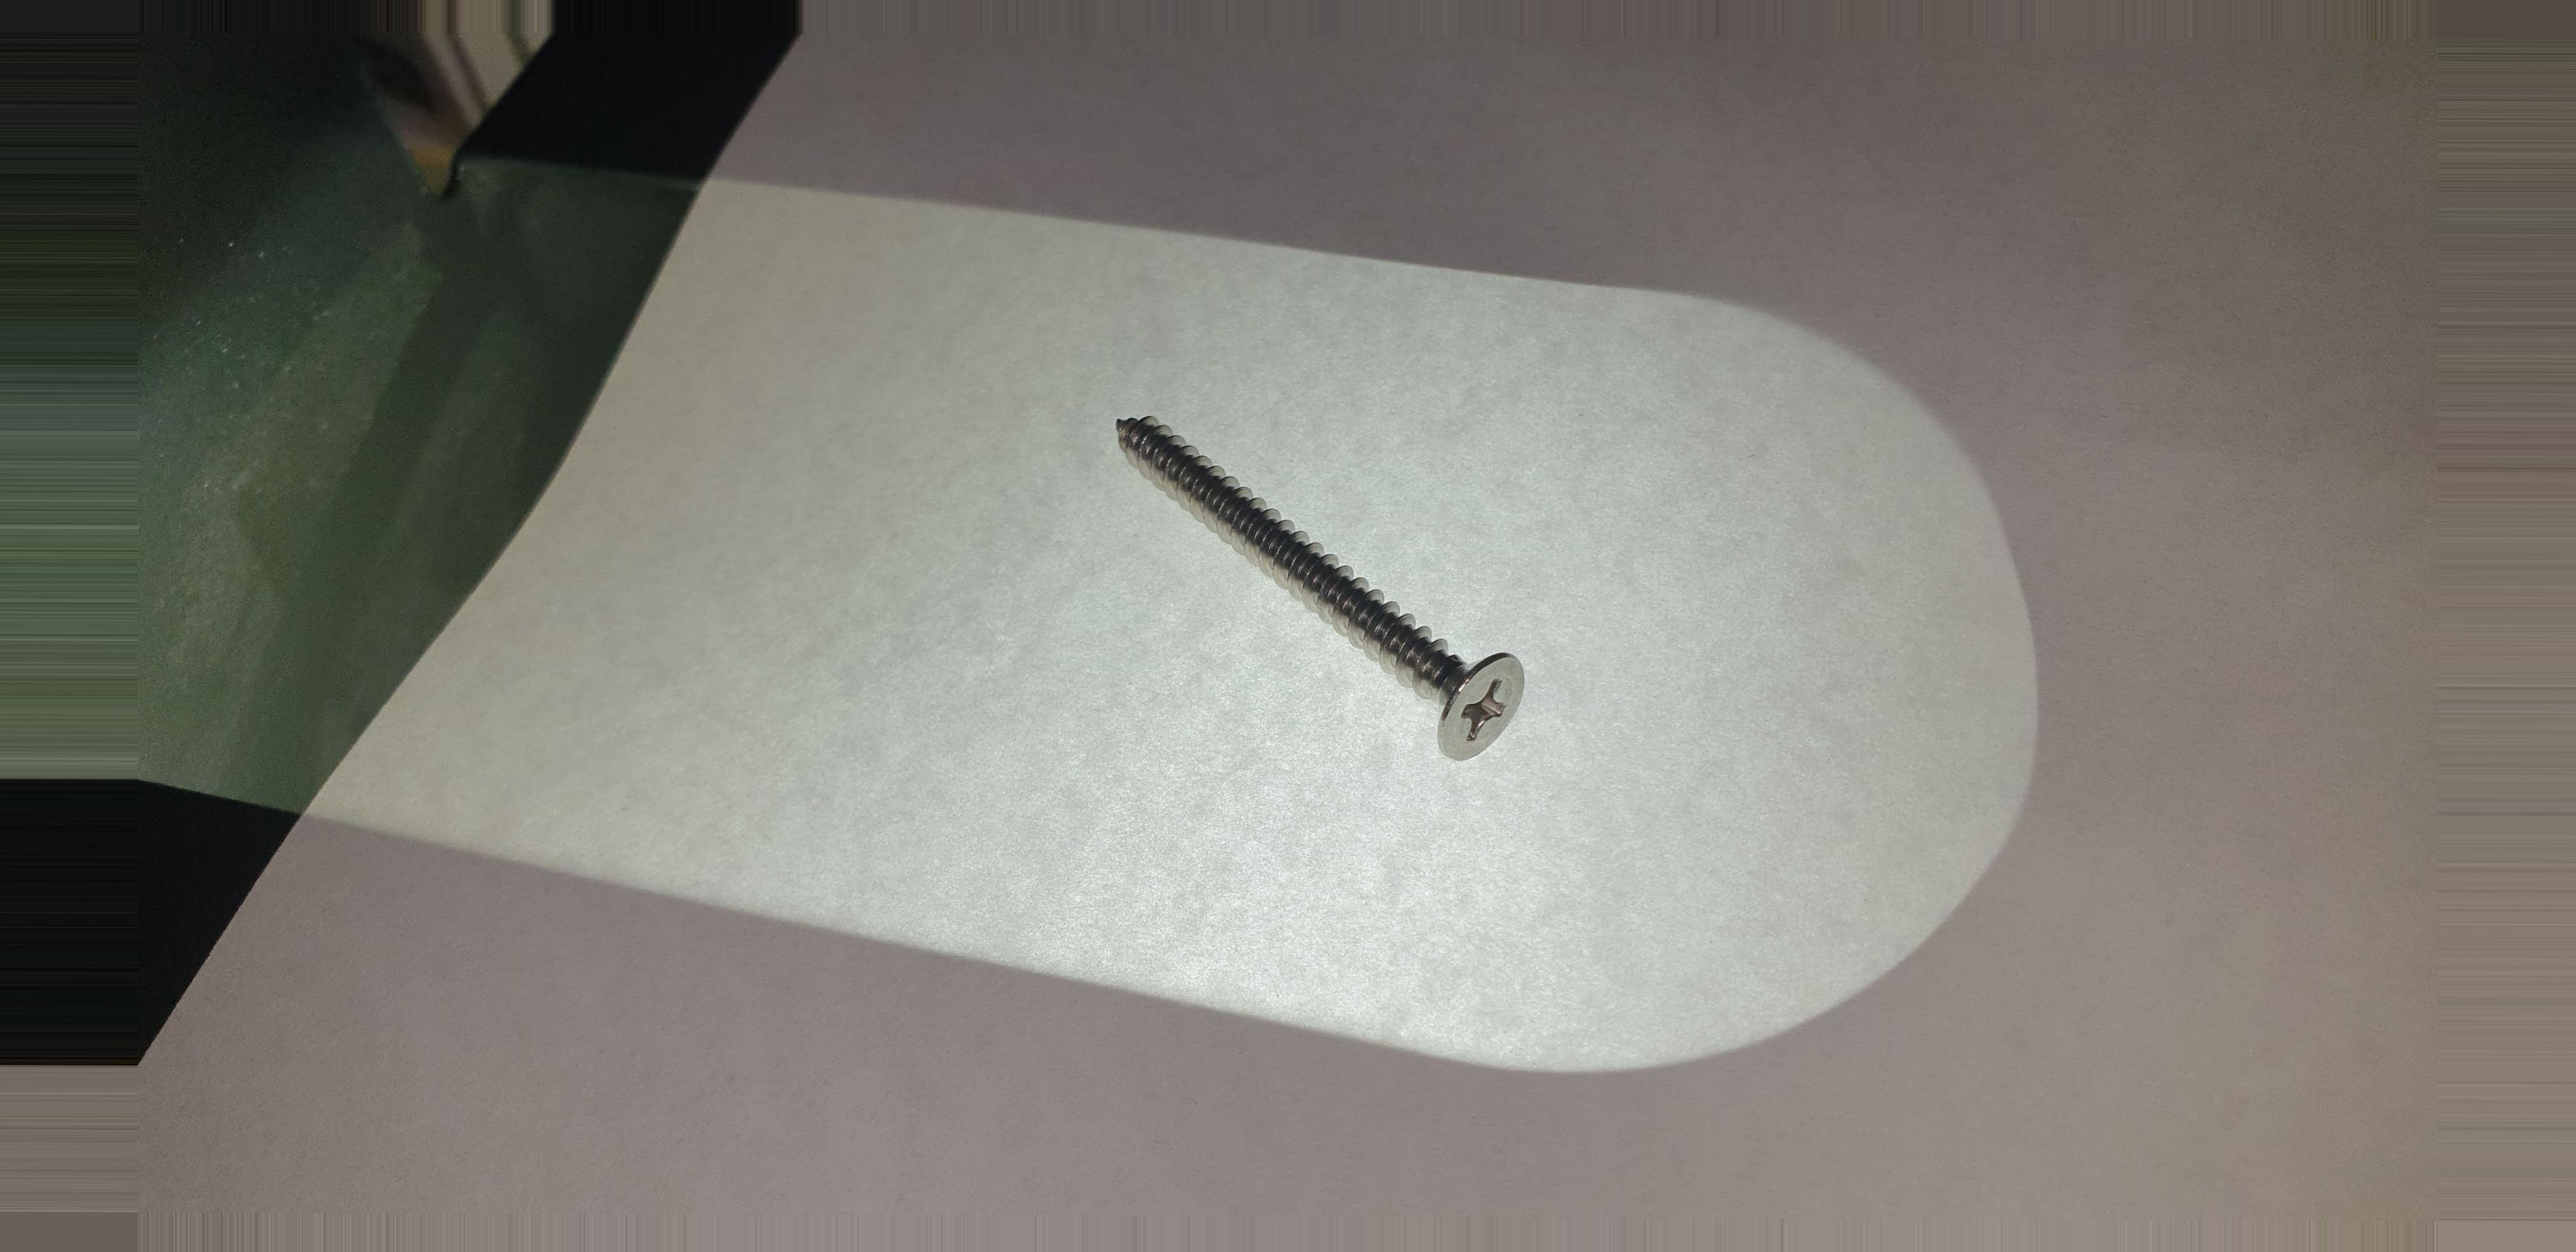fastener: (1042, 365, 1587, 790)
